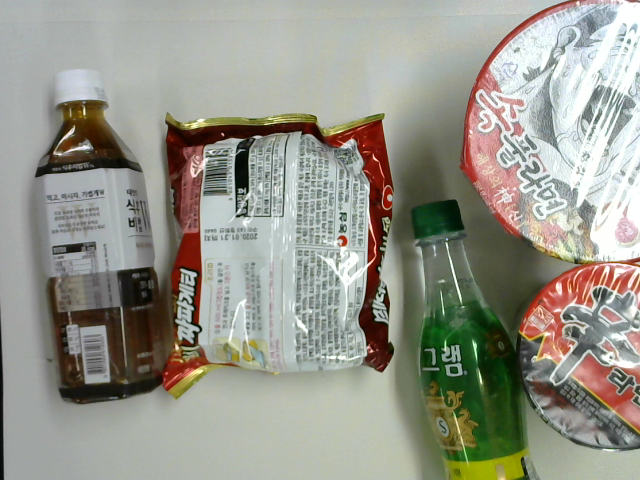Hejangpul: (460, 2, 640, 266)
Post-meal_recipe_W_tea_500ml: (31, 68, 168, 407)
Seagram_Lemon_Carbonated_Water: (408, 196, 543, 480)
Sichuan_Chapaghetti: (161, 107, 403, 401)
Sinramen_small: (518, 262, 640, 453)
